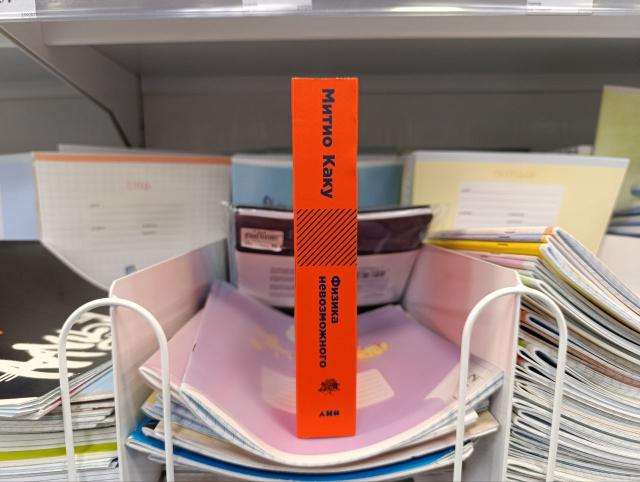book-s-spine: (292, 77, 358, 438)
